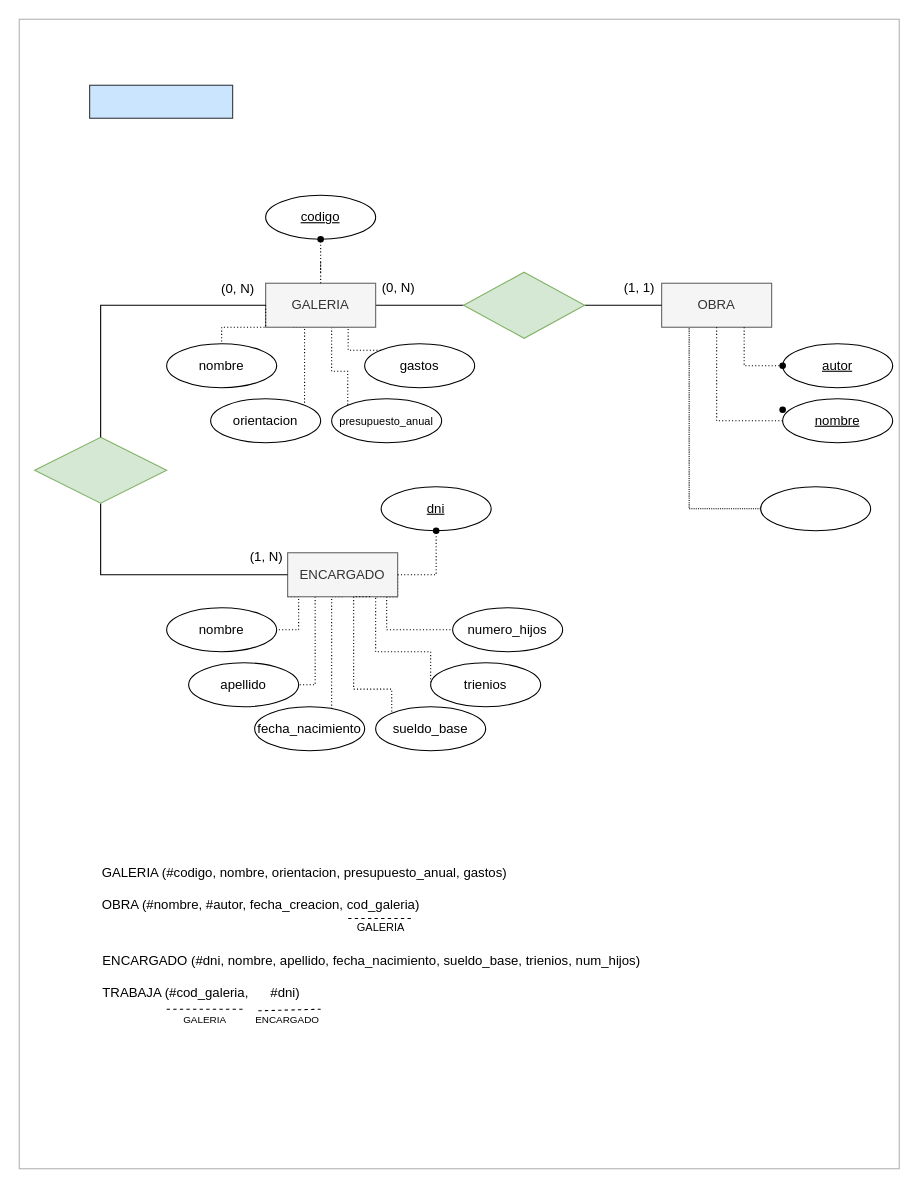
The diagram is 919 pixels wide and 1188 high, and some of its shapes have lost their labels. The shapes that lost their labels are listed below. From the top down, each one's centre as x and y in pixels, then its label:
At point (161, 101): "EJER. 8 - MUSEO".
At point (524, 304): "CONTIENE N:1".
At point (100, 469): "TRABAJA N:N".
At point (815, 508): "fecha_creacion".
